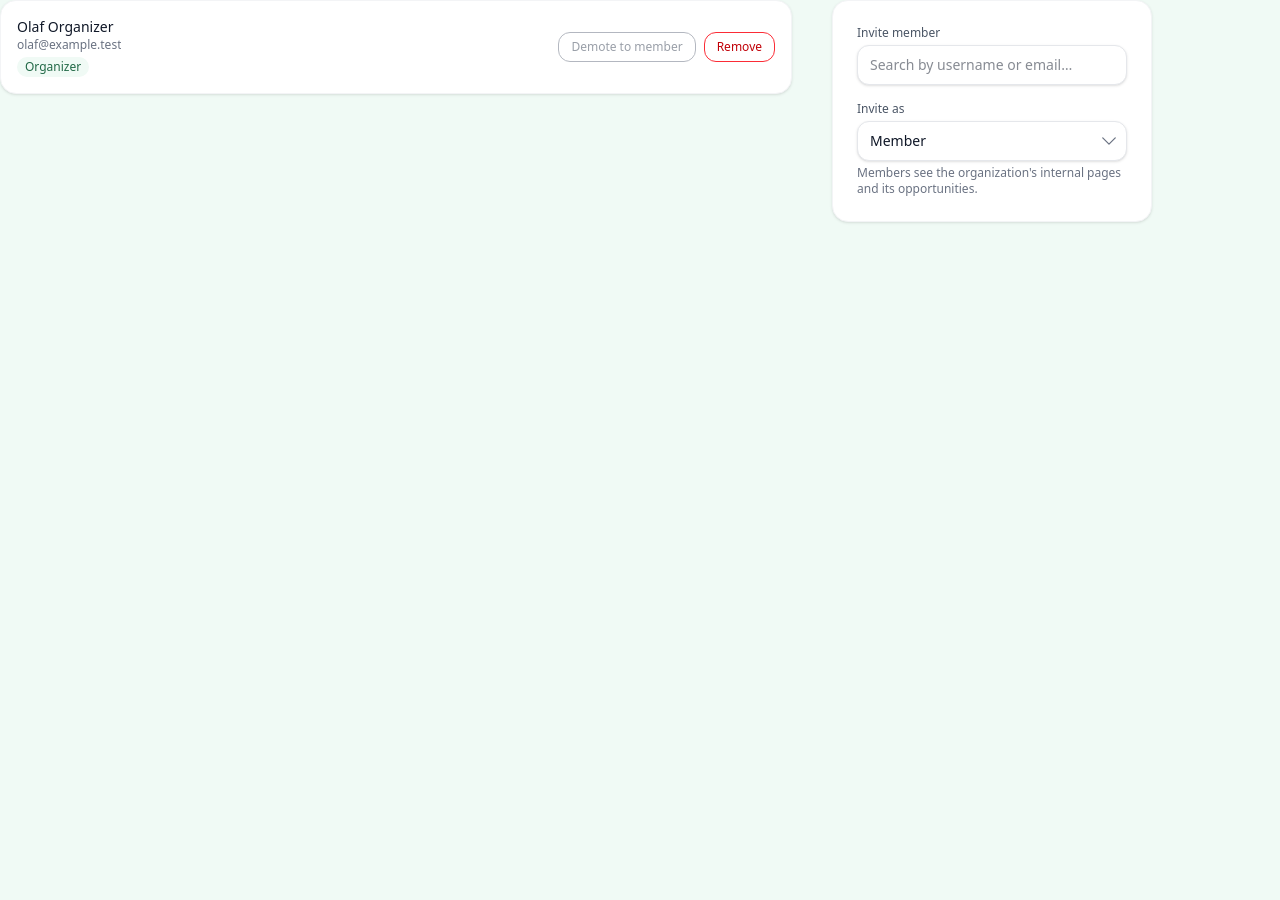
Test case: OrgMembersPage invitations › replaces the stale 'invitation sent' banner when the invite is revoked
In the search field labelled "Invite member": (992,65) [857,45,1127,85], type "ingo"
Wait 400 ms
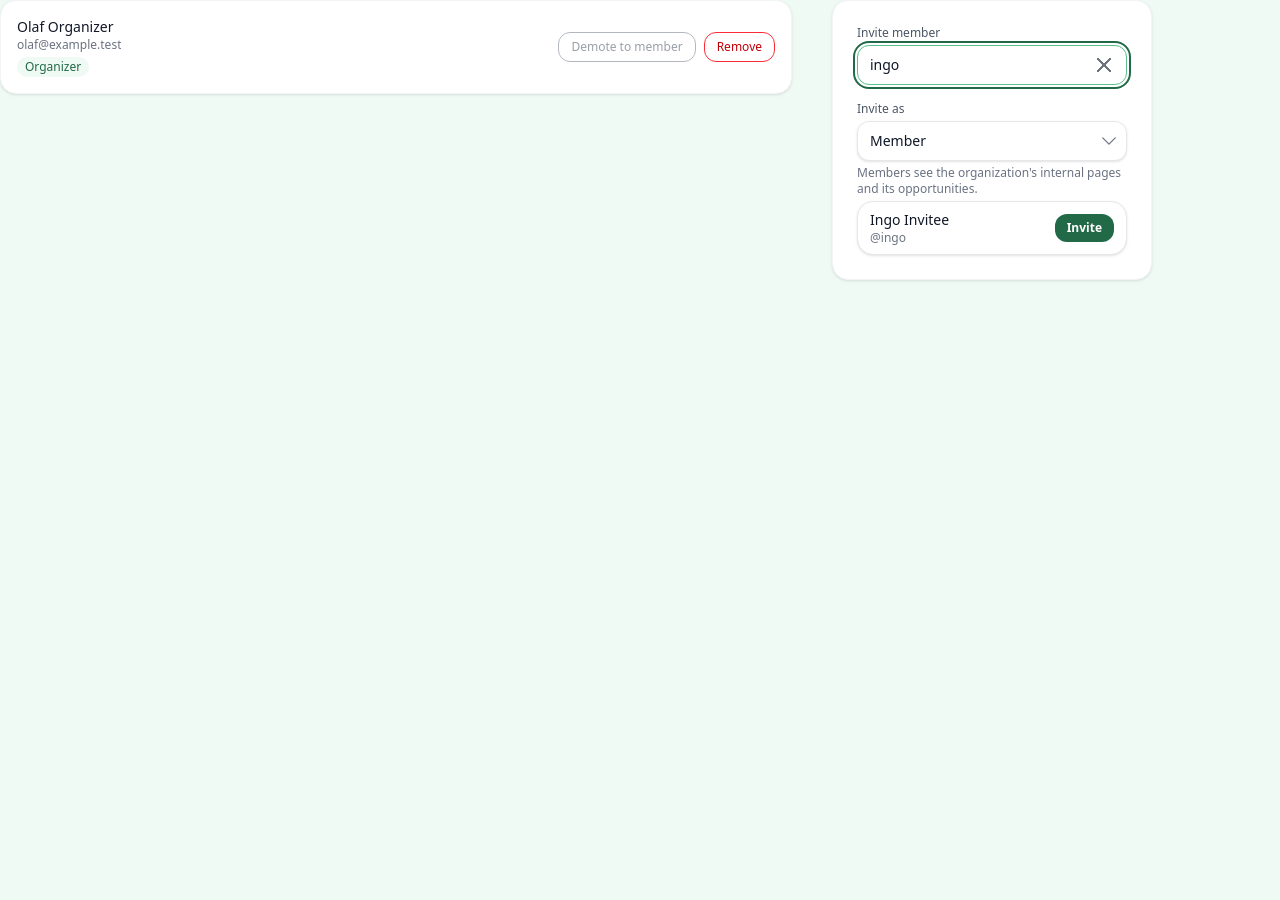
Click the button "Invite": (1084,228) [1055,214,1114,242]
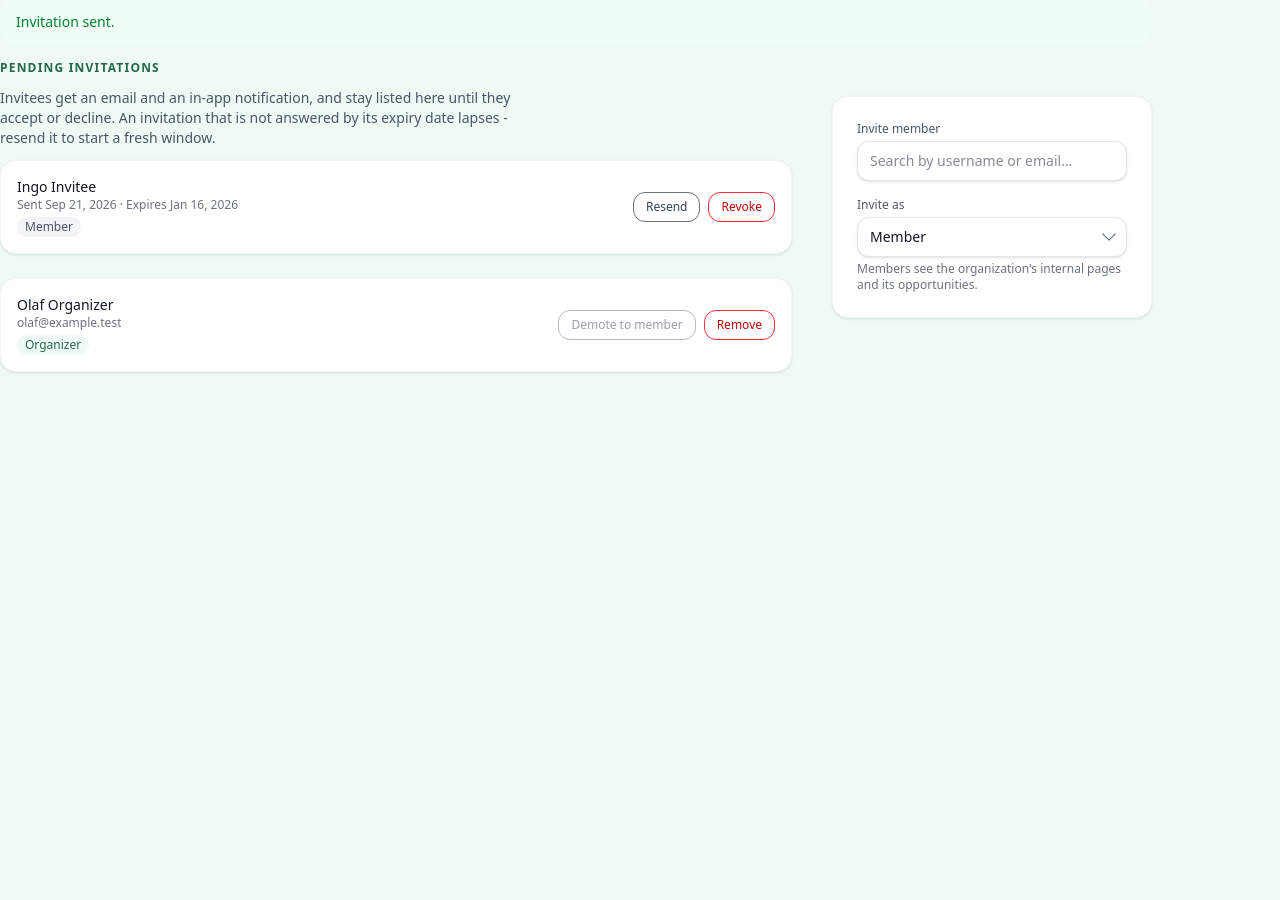
Expected: the text "Invitation sent." is shown, [0,0,1152,44]
Click the button "Revoke": (742,207) [708,192,775,222]
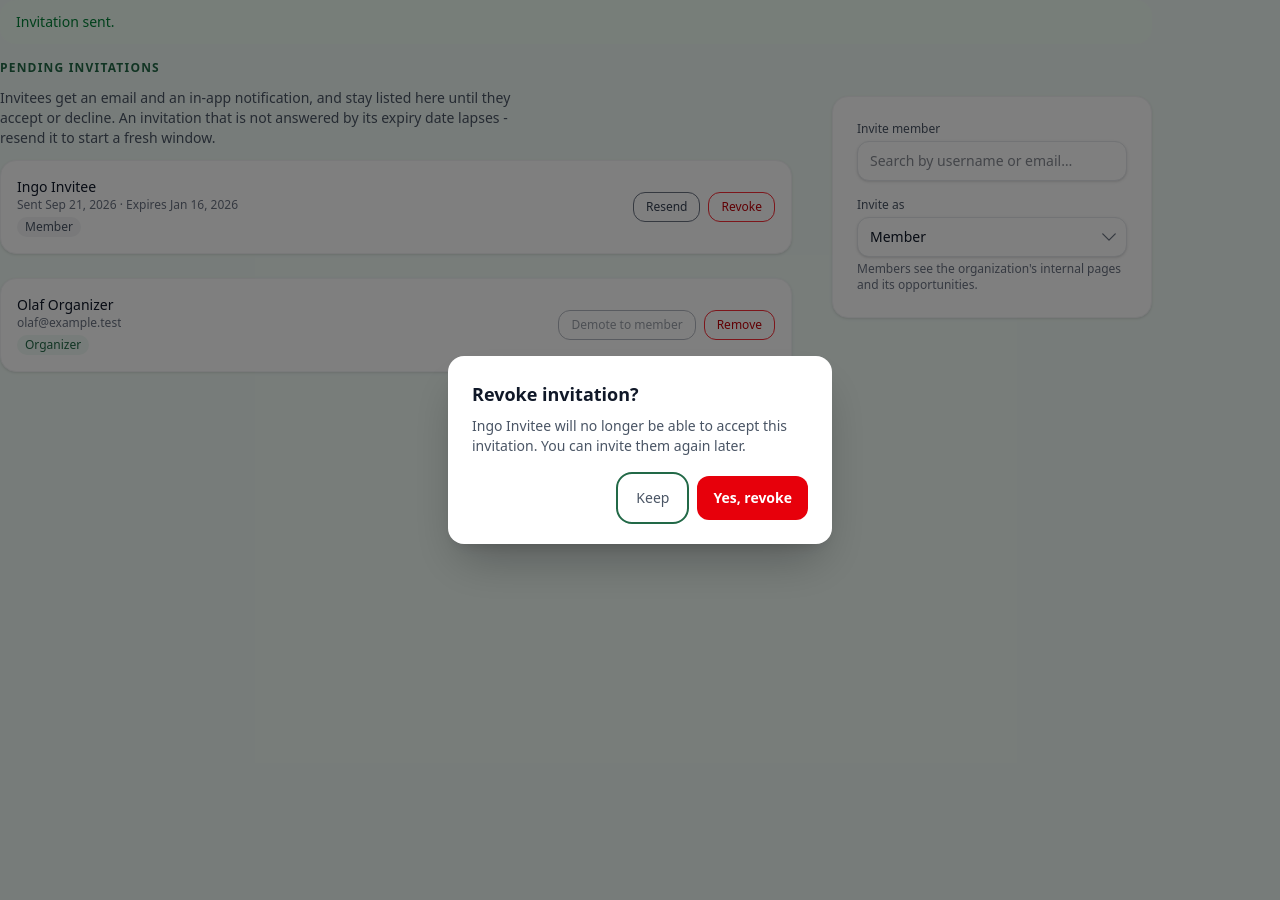
Click the button "Yes, revoke": (753,498) [697,476,808,520]
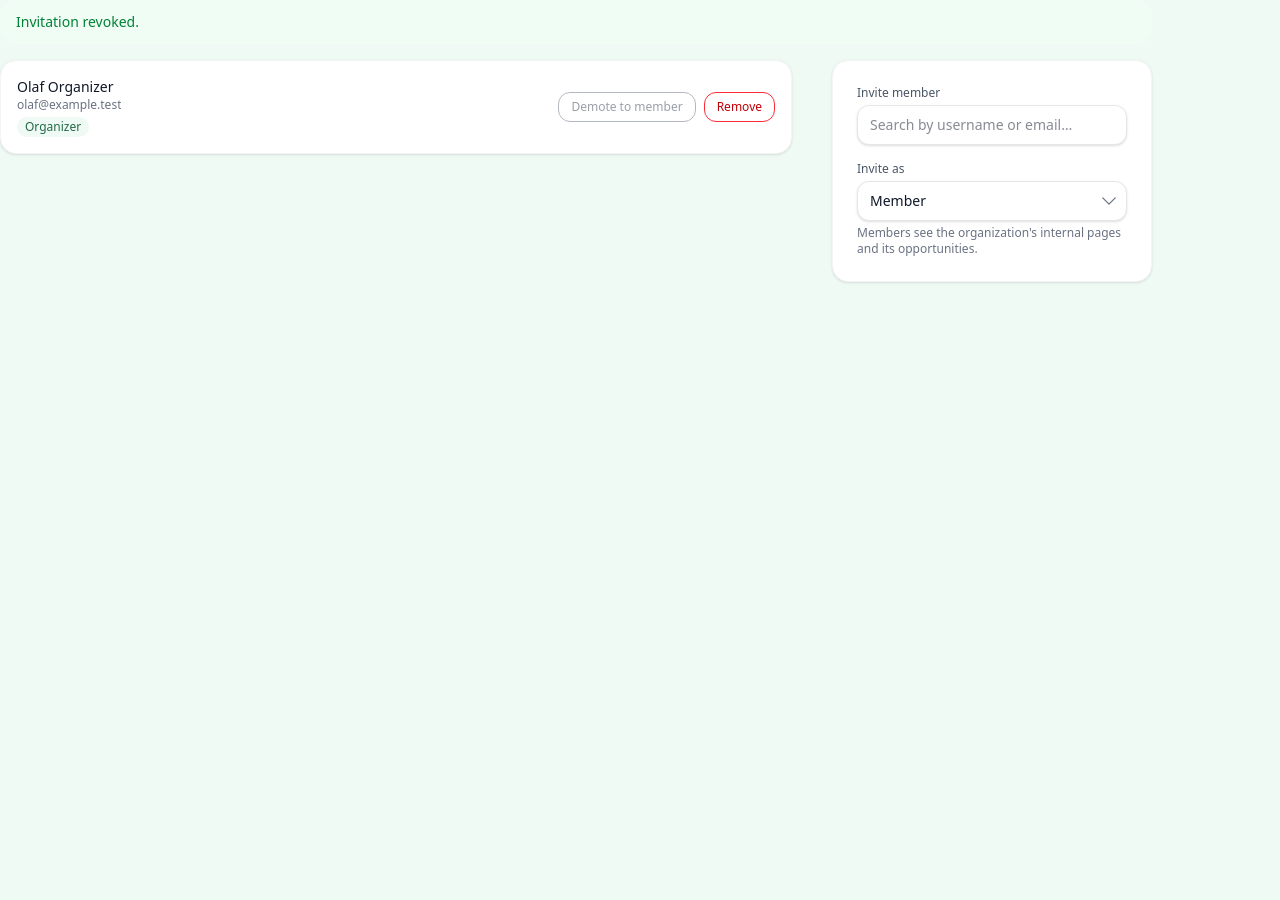
Expected: the text "Invitation revoked." is shown, [0,0,1152,44]
Expected: the text "Invitation sent." is gone
